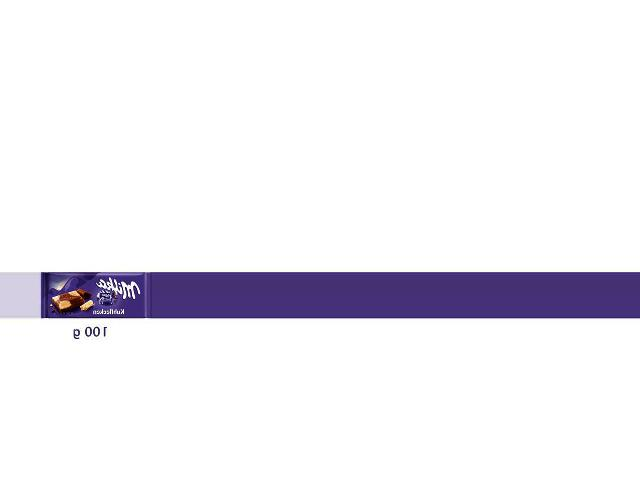chocolate: (39, 270, 150, 325)
